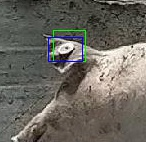text: (53, 30, 85, 61)
